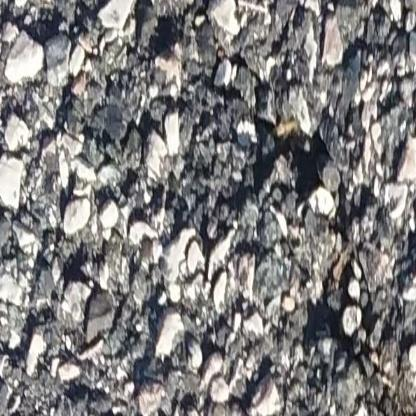Cracks: (164, 69, 343, 255), (298, 181, 388, 404)
